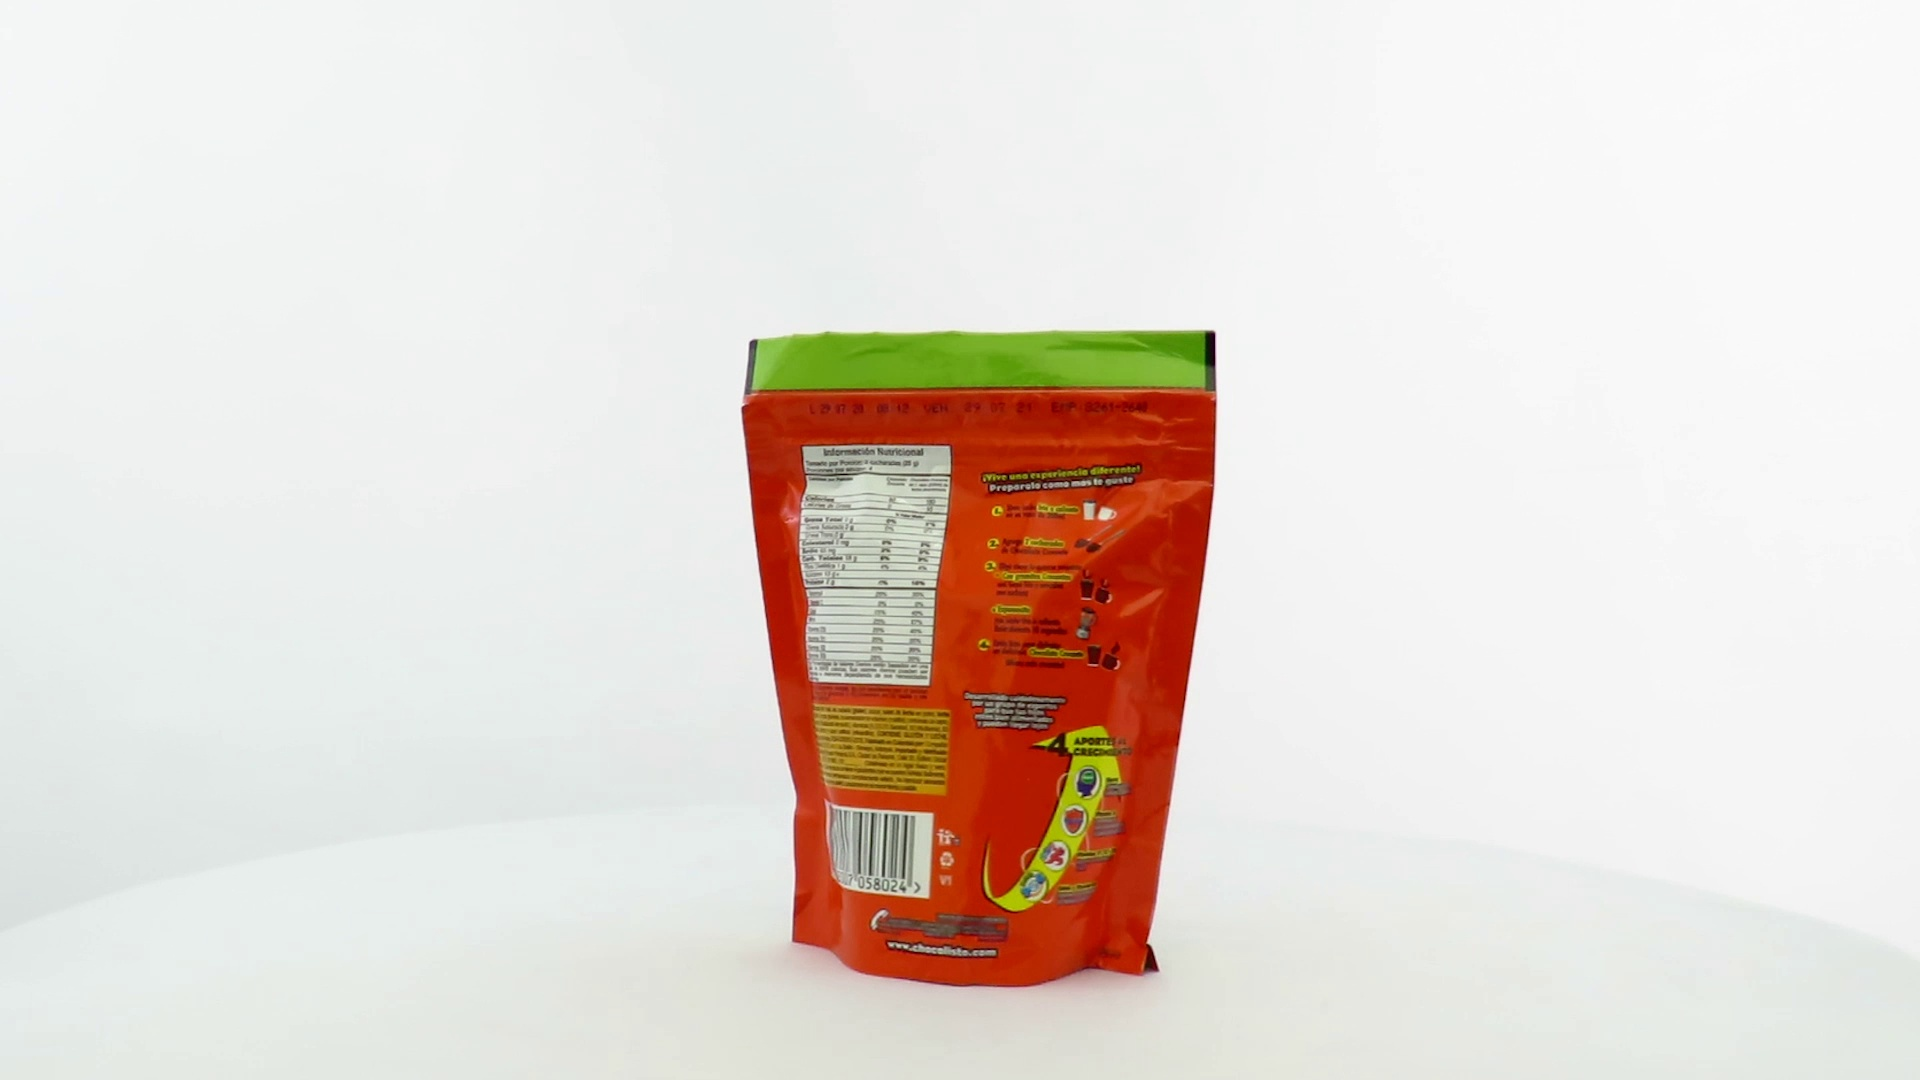COL0170102DYP10000: (736, 324, 1222, 994)
